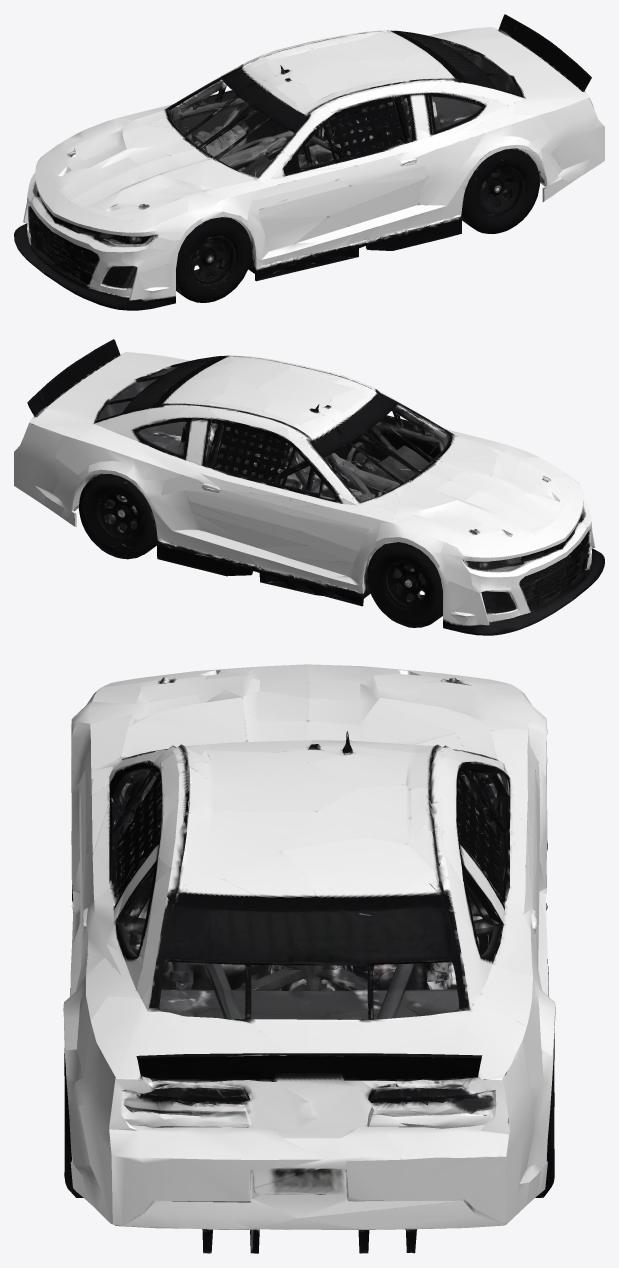
The model's file is stock_car.glb.
3 views of the same model, one above another, from view 1: azimuth 30°, elevation 25°; view 2: azimuth 150°, elevation 25°; view 3: azimuth 270°, elevation 25° (orthographic). The views are drawn at different scales.
Visible parts, largest first — view 1: Mesh_0; view 2: Mesh_0; view 3: Mesh_0.
Part boxes in pixels (<box>): Mesh_0: <box>14,14,604,310</box>; Mesh_0: <box>14,339,604,635</box>; Mesh_0: <box>63,664,555,1253</box>.
Bounding box in the file's own units: 1.9 × 0.5485 × 0.7873.
Materials: 1 (1 with a texture image).
